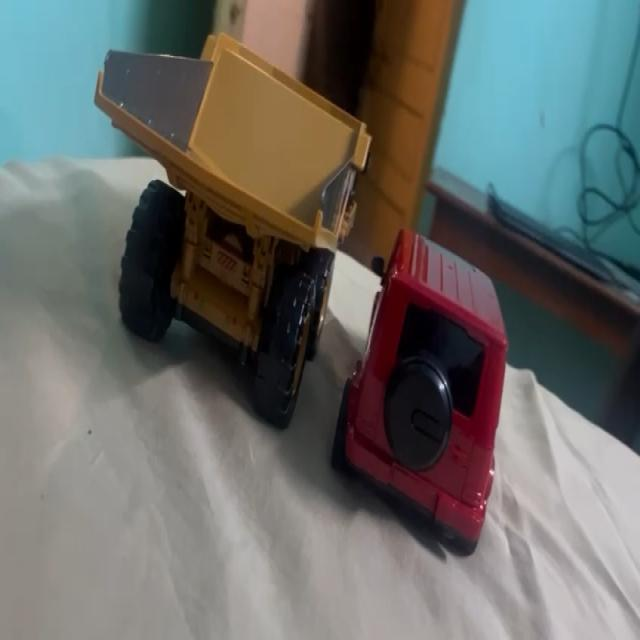dump_truck: (83, 4, 335, 416)
light_vehicle: (350, 223, 507, 541)
